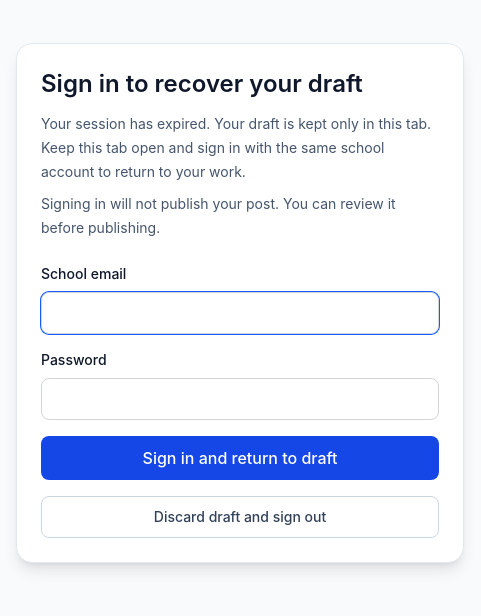
Test case: DraftSessionRecovery › keeps the draft locked after a 401 response and displays only a safe error
In the field labelled "School email": (240, 313) 41,292 -> 439,334, type "hcps-review@henricostudents.org"
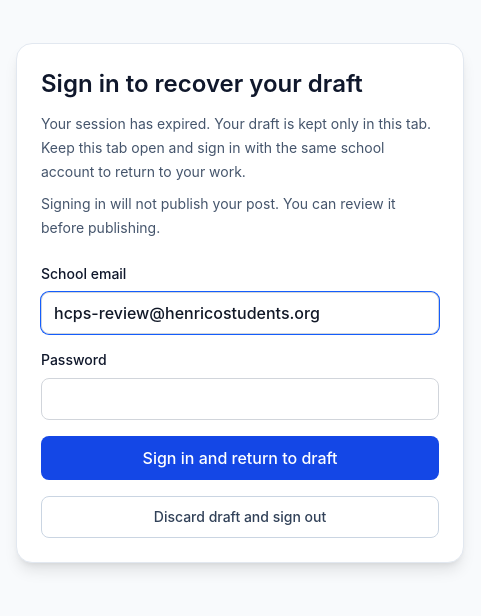
In the password field labelled "Password": (240, 399) 41,378 -> 439,420, type "Synthetic-recovery-password-Aa1!"
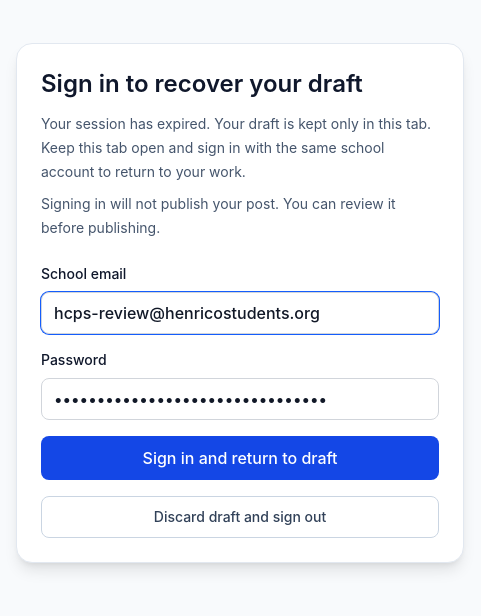
Submit the form "Sign in and return to draft", box 41,264 -> 439,480
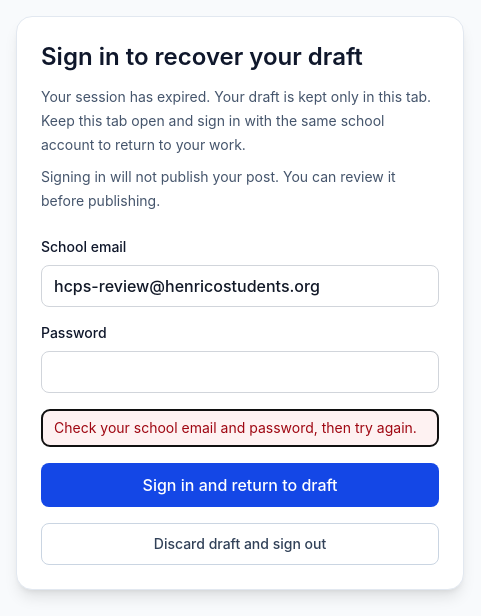
Expected: the button "Sign in and return to draft" is enabled, 41,463 -> 439,507
Result: the message reads "Check your school email and password, then try again." at 54,419 -> 417,436
Result: the password field labelled "Password" is empty at 41,351 -> 439,393
